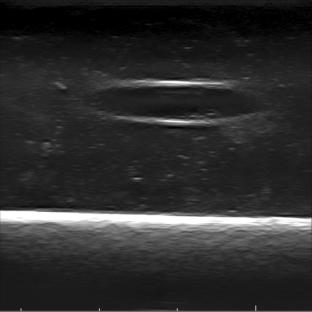vessel: (89, 79, 267, 128)
